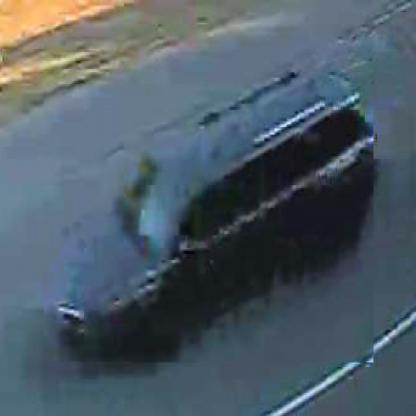car: (44, 70, 375, 365)
